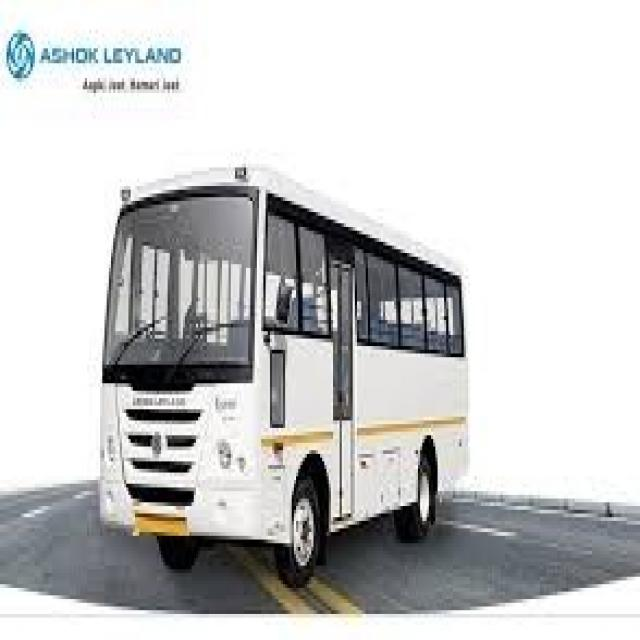bus: (83, 135, 479, 575)
